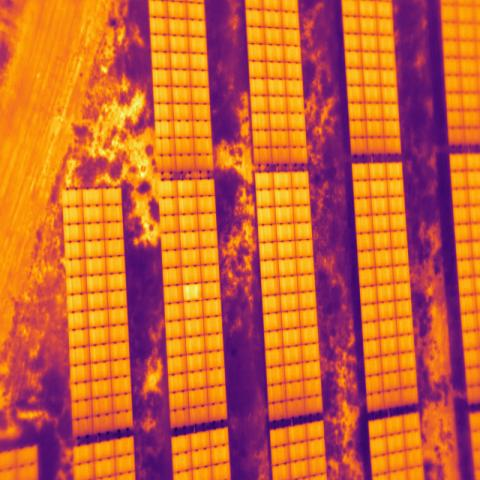fault: (182, 282, 202, 303)
